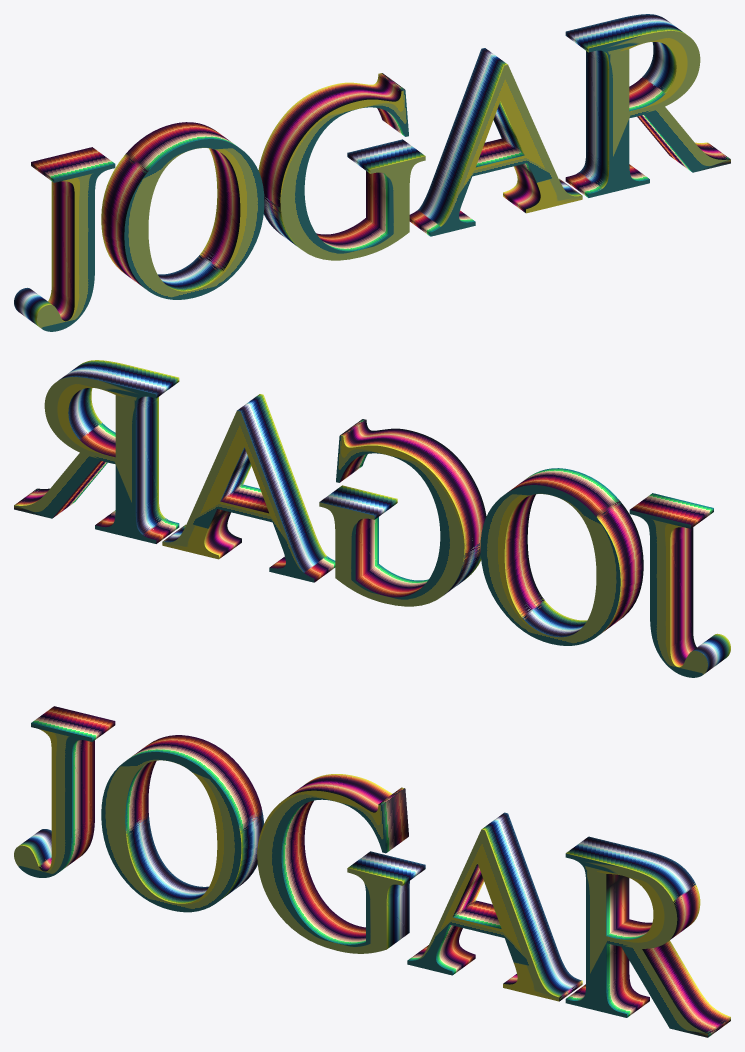
Rendered from jogar.fbx.
3 renders of one model, top to bottom at view 1: azimuth 30°, elevation 25°; view 2: azimuth 150°, elevation 25°; view 3: azimuth 330°, elevation 25°, orthographic.
Visible parts, largest first — view 1: Jogar; view 2: Jogar; view 3: Jogar.
Part boxes in pixels (x1=…): Jogar: x1=14, y1=14, x2=730, y2=331; Jogar: x1=14, y1=360, x2=730, y2=677; Jogar: x1=14, y1=706, x2=730, y2=1037.
Bounding box in the file's own units: 2.43 × 0.524 × 0.14.
